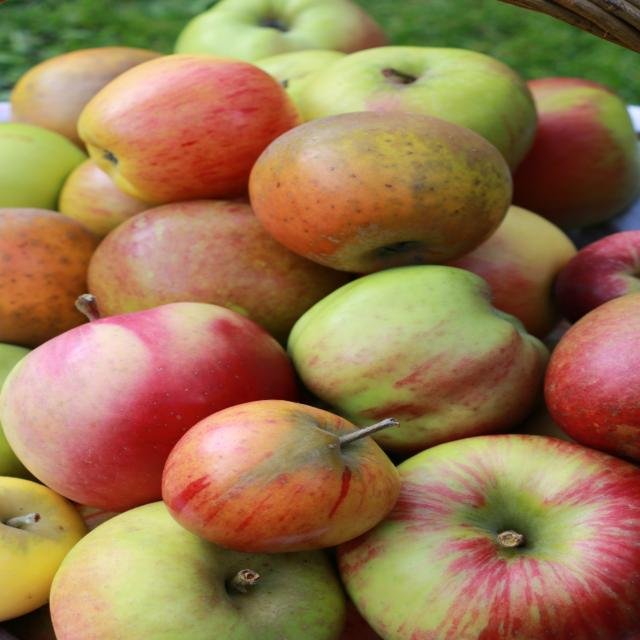Green Apple: (2, 122, 91, 211), (2, 340, 35, 477)
Red Apple: (342, 433, 639, 640), (397, 444, 639, 636), (250, 111, 523, 273)
